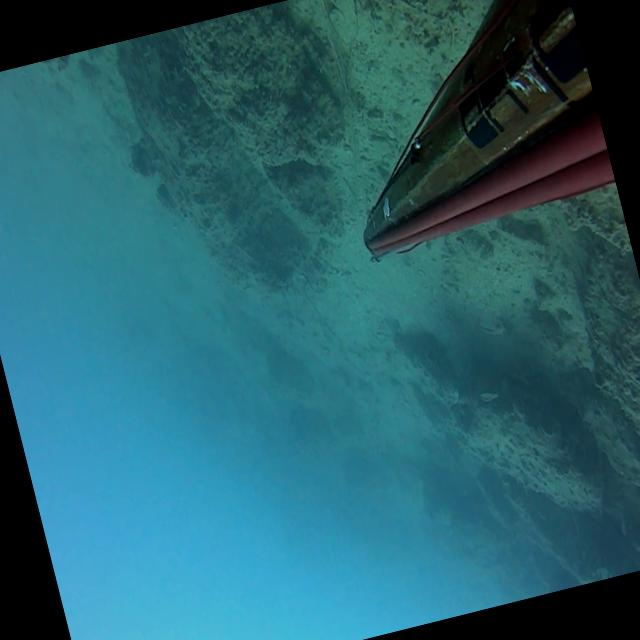Balon Baligi: (478, 316, 498, 336), (478, 388, 498, 402)
